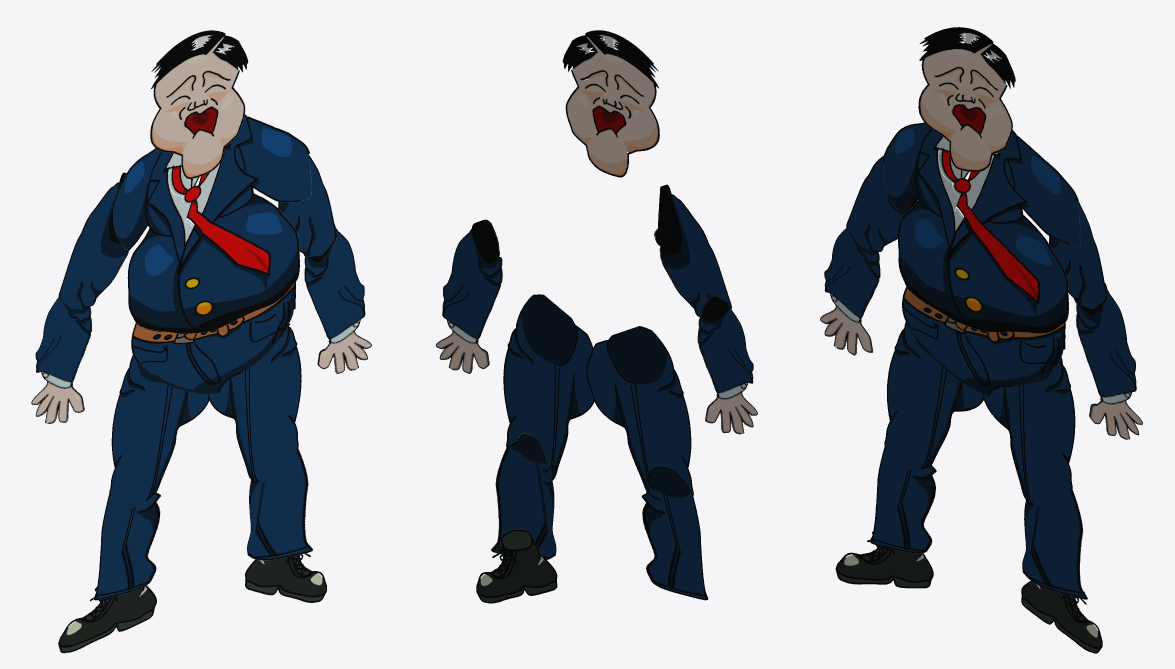
The model's file is fat_man.FBX.
The picture shows the model from 3 angles, left to right: view 1: azimuth 30°, elevation 25°; view 2: azimuth 150°, elevation 25°; view 3: azimuth 330°, elevation 25°; orthographic projection.
Visible parts, largest first — view 1: fat_torso, fat_head, fat_hips, fat_leg_upper_R, fat_leg_upper_L, fat_arm_lower_L, fat_leg_lower_L, fat_leg_lower_R, fat_arm_lower_R, fat_arm_upper_R, fat_foot_R, fat_foot_L (+1 smaller); view 2: fat_leg_upper_R, fat_leg_upper_L, fat_head, fat_arm_lower_L, fat_leg_lower_R, fat_leg_lower_L, fat_arm_lower_R, fat_arm_upper_R, fat_foot_L; view 3: fat_torso, fat_head, fat_leg_upper_L, fat_hips, fat_leg_upper_R, fat_arm_lower_L, fat_leg_lower_L, fat_leg_lower_R, fat_arm_lower_R, fat_arm_upper_R, fat_foot_R, fat_arm_upper_L (+1 smaller).
Part boxes in pixels (x1=…): fat_torso: x1=112, y1=114, x2=311, y2=333; fat_head: x1=150, y1=30, x2=248, y2=178; fat_hips: x1=131, y1=282, x2=295, y2=393; fat_leg_upper_R: x1=109, y1=355, x2=209, y2=508; fat_leg_upper_L: x1=207, y1=326, x2=301, y2=482; fat_arm_lower_L: x1=304, y1=224, x2=371, y2=373; fat_leg_lower_L: x1=247, y1=448, x2=313, y2=560; fat_leg_lower_R: x1=93, y1=492, x2=160, y2=600; fat_arm_lower_R: x1=31, y1=297, x2=91, y2=423; fat_arm_upper_R: x1=58, y1=172, x2=129, y2=309; fat_foot_R: x1=58, y1=585, x2=156, y2=653; fat_foot_L: x1=245, y1=553, x2=326, y2=602; fat_leg_upper_R: x1=586, y1=326, x2=693, y2=495; fat_leg_upper_L: x1=503, y1=294, x2=594, y2=480; fat_head: x1=562, y1=30, x2=659, y2=177; fat_arm_lower_L: x1=435, y1=219, x2=502, y2=373; fat_leg_lower_R: x1=641, y1=466, x2=708, y2=600; fat_leg_lower_L: x1=491, y1=432, x2=556, y2=559; fat_arm_lower_R: x1=697, y1=296, x2=757, y2=434; fat_arm_upper_R: x1=654, y1=184, x2=731, y2=316; fat_foot_L: x1=476, y1=529, x2=557, y2=603; fat_torso: x1=882, y1=122, x2=1080, y2=333; fat_head: x1=918, y1=27, x2=1015, y2=171; fat_leg_upper_L: x1=982, y1=357, x2=1075, y2=507; fat_hips: x1=902, y1=286, x2=1065, y2=396; fat_leg_upper_R: x1=884, y1=322, x2=985, y2=470; fat_arm_lower_L: x1=1076, y1=283, x2=1142, y2=439; fat_leg_lower_L: x1=1022, y1=489, x2=1087, y2=599; fat_leg_lower_R: x1=870, y1=446, x2=936, y2=553; fat_arm_lower_R: x1=820, y1=228, x2=880, y2=355; fat_arm_upper_R: x1=846, y1=155, x2=919, y2=253; fat_foot_R: x1=835, y1=531, x2=933, y2=588; fat_arm_upper_L: x1=1049, y1=202, x2=1107, y2=310.
Bounding box in the file's own units: 40 × 64.26 × 1.87.
1 material, 1 textured.
